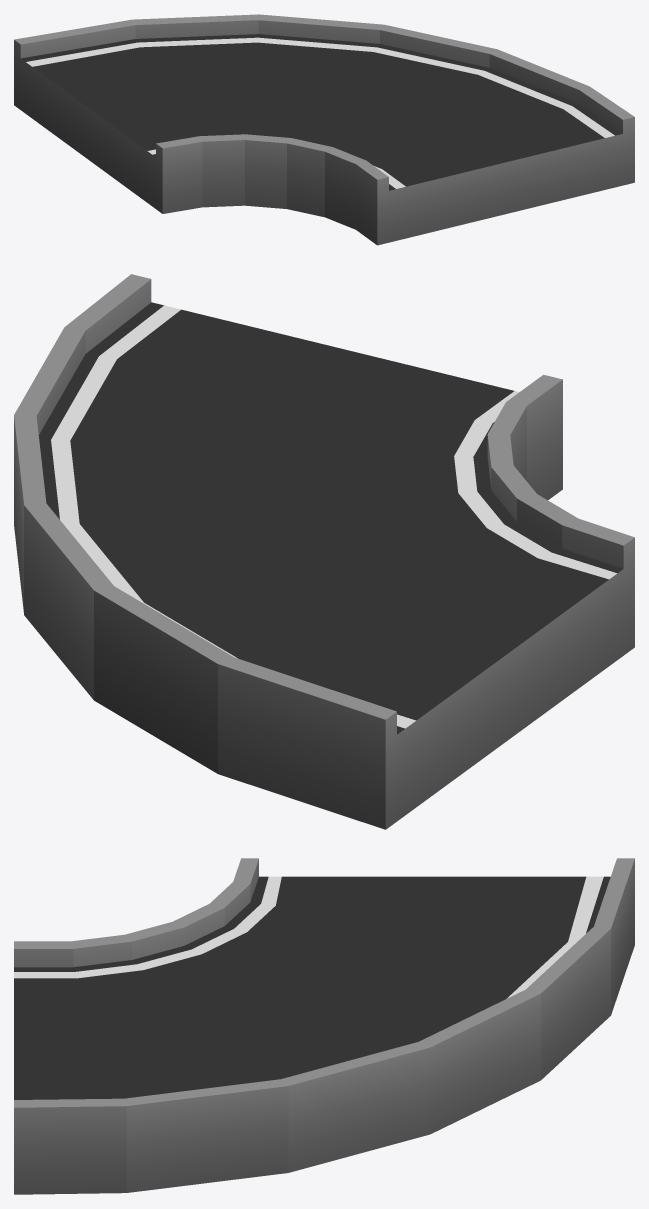
Rendered from UTurn_Road.fbx.
The picture shows the model from 3 angles, top to bottom: view 1: azimuth 30°, elevation 25°; view 2: azimuth 150°, elevation 25°; view 3: azimuth 270°, elevation 25°; orthographic projection. The views are drawn at different scales.
Visible parts, largest first — view 1: UTurn_Road; view 2: UTurn_Road; view 3: UTurn_Road.
Part boxes in pixels (left/top/right/bottom): UTurn_Road: left=14, top=14, right=634, bottom=245; UTurn_Road: left=14, top=274, right=634, bottom=829; UTurn_Road: left=14, top=858, right=634, bottom=1194.
Bounding box in the file's own units: 299 × 48.52 × 314.
